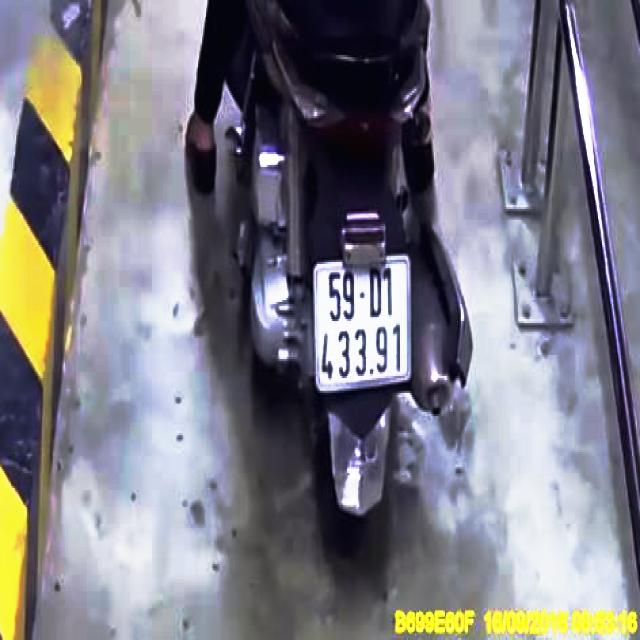license_plate: (314, 254, 413, 393)
